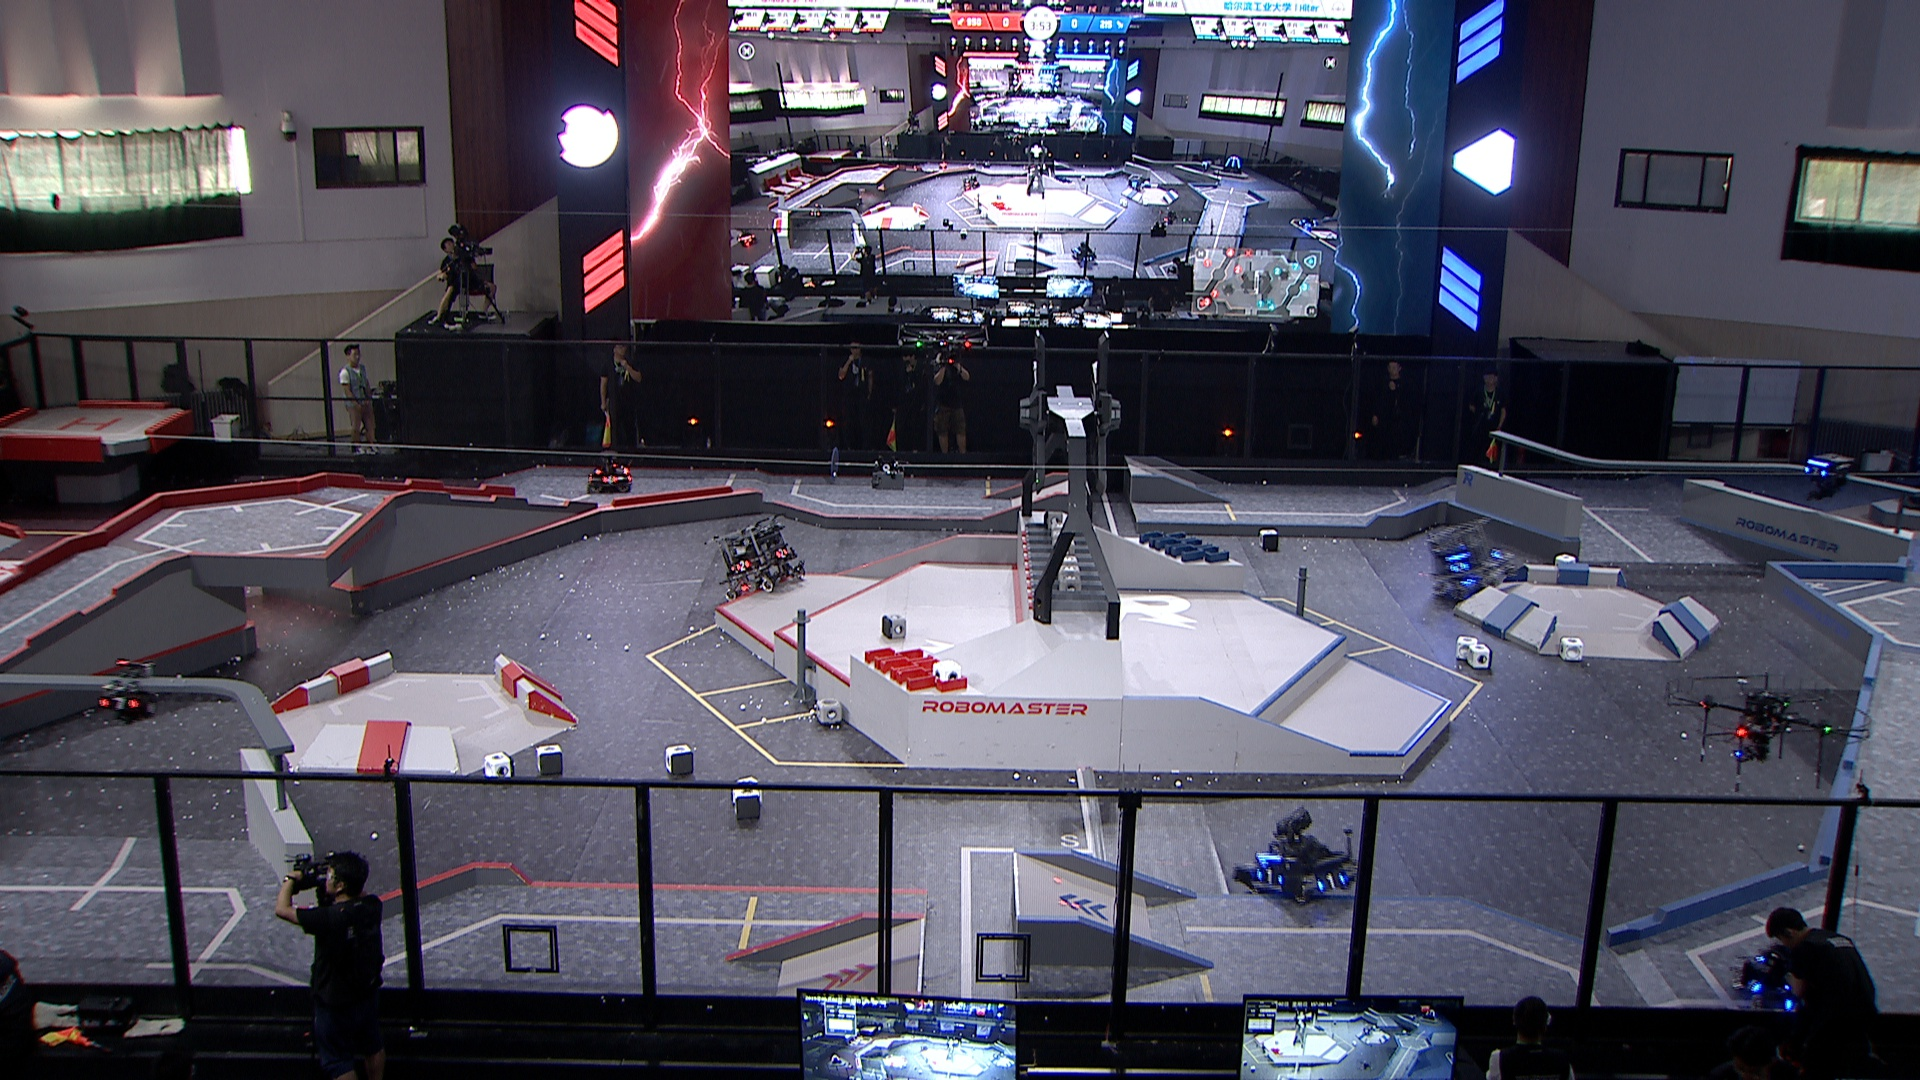armor: (98, 695, 141, 713), (1317, 872, 1346, 893), (1257, 868, 1287, 885), (1745, 978, 1764, 997), (1449, 560, 1472, 576), (1803, 465, 1830, 477), (736, 560, 752, 574), (603, 473, 621, 484), (775, 547, 790, 560)
car: (1229, 808, 1365, 902), (1733, 938, 1836, 1017), (712, 514, 804, 599), (1429, 518, 1524, 600), (585, 450, 633, 495)
ignore: (1072, 243, 1100, 266), (1222, 154, 1245, 174), (738, 228, 760, 248), (1127, 171, 1149, 190), (963, 173, 981, 191), (1299, 215, 1320, 229), (808, 202, 825, 218), (1200, 160, 1215, 171)
watcher: (95, 659, 162, 727), (1801, 452, 1854, 500)
